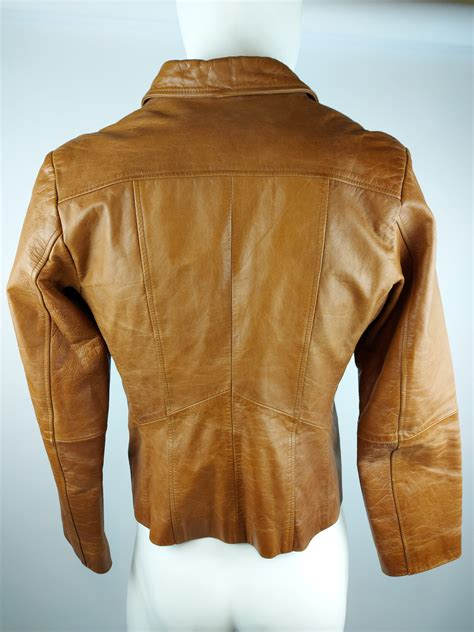cuero: (6, 55, 463, 577)
